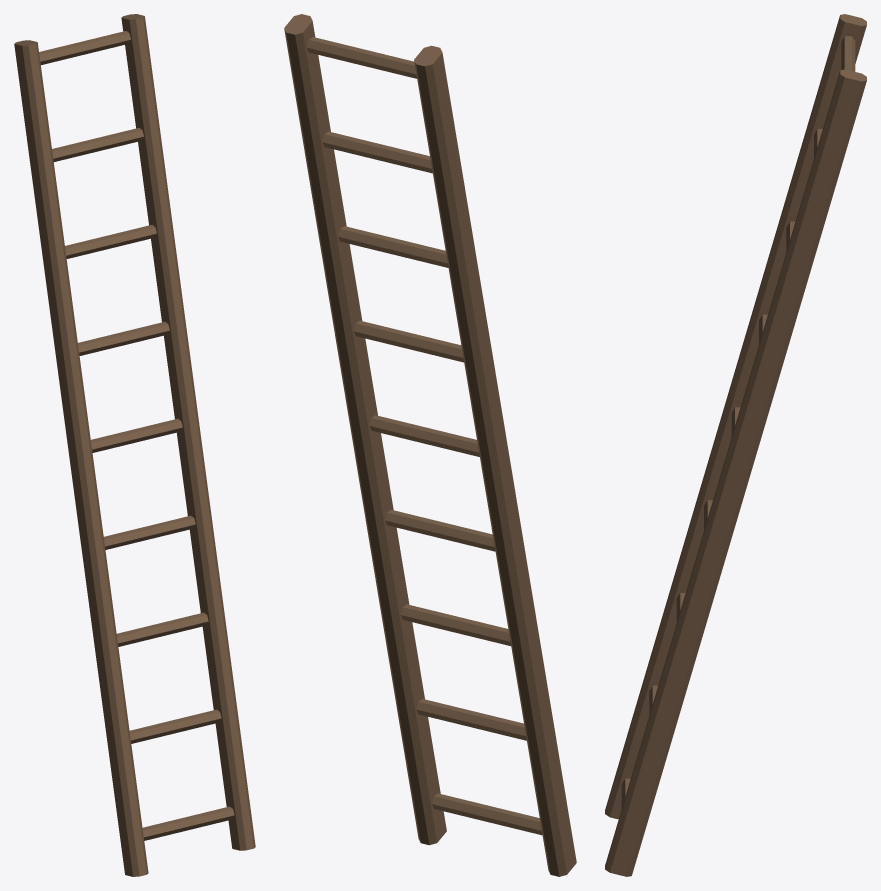
The model's file is ladder.glb.
3 renders of one model, left to right at view 1: azimuth 30°, elevation 25°; view 2: azimuth 150°, elevation 25°; view 3: azimuth 270°, elevation 25°, orthographic. The views are drawn at different scales.
Visible parts, largest first — view 1: ladder; view 2: ladder; view 3: ladder.
Boxes of the visible parts, x1,y1,x2,y2 form: ladder: [14, 14, 255, 876]; ladder: [284, 14, 576, 876]; ladder: [605, 14, 866, 876].
Bounding box in the file's own units: 0.595 × 3.51 × 1.04.
